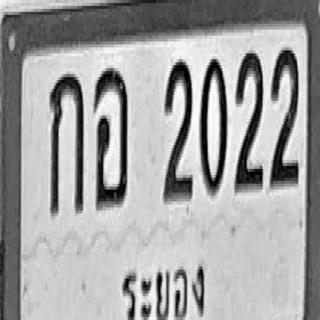A01: (49, 71, 84, 213)
A43: (93, 67, 127, 206)
N00: (200, 55, 227, 194)
N02: (163, 58, 192, 200), (269, 46, 298, 185), (234, 52, 263, 188)
P53: (113, 252, 212, 320)
